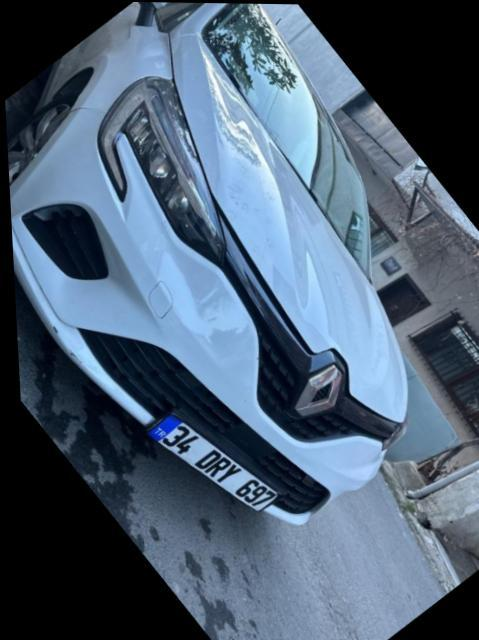scratch: (63, 347, 79, 365), (48, 325, 55, 335)
